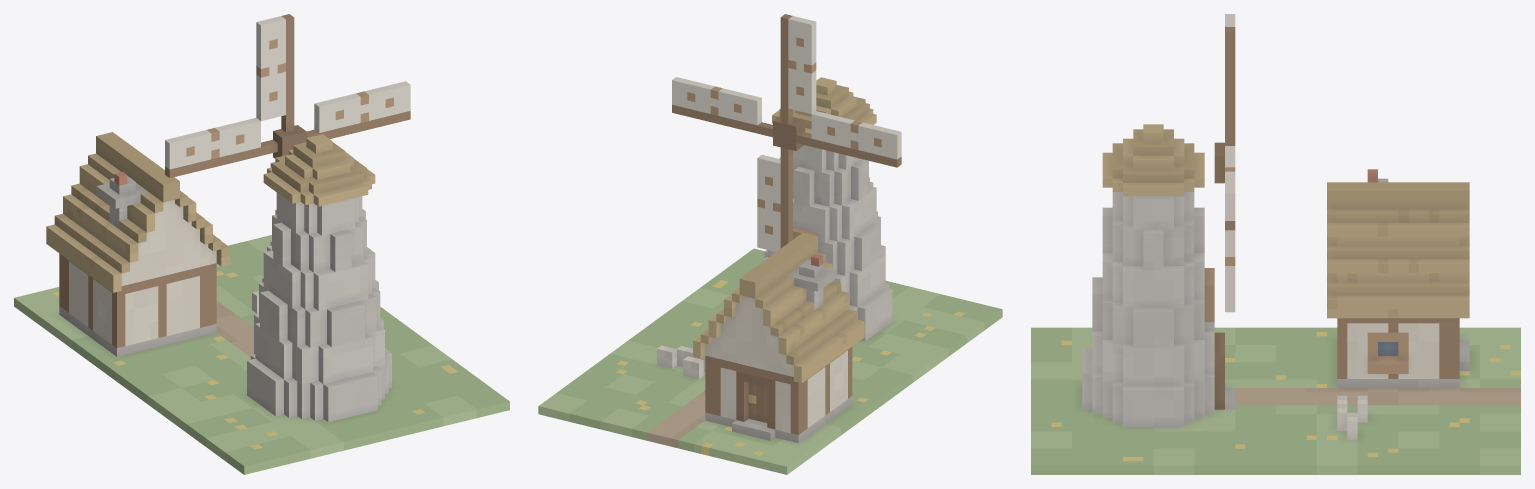
File: mill.glb
3 views of the same model, side by side, from view 1: azimuth 30°, elevation 25°; view 2: azimuth 150°, elevation 25°; view 3: azimuth 270°, elevation 25° (orthographic). The views are drawn at different scales.
Parts seen in each view (by area): view 1: mill; view 2: mill; view 3: mill.
Boxes of the visible parts, x1,y1,x2,y2 form: mill: [14, 14, 509, 474]; mill: [538, 14, 1002, 474]; mill: [1031, 14, 1520, 474].
Bounding box in the file's own units: 4 × 5.12 × 6.
